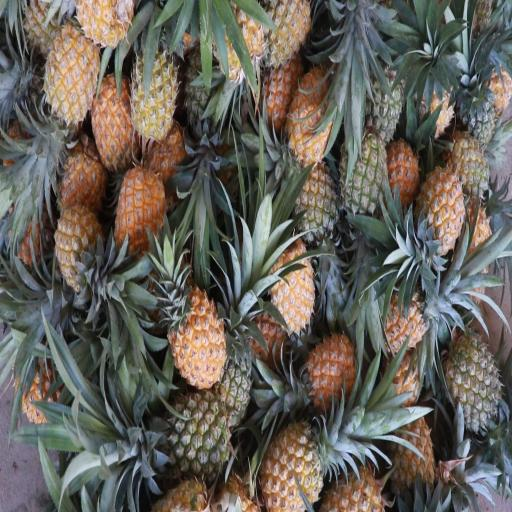------------------------------: (288, 135, 338, 253)
Pineapple - v8 v1: (33, 8, 103, 128), (255, 401, 325, 512), (284, 40, 343, 162), (379, 394, 439, 512), (164, 276, 227, 381), (296, 308, 359, 413), (126, 20, 183, 135), (47, 189, 103, 299), (407, 149, 466, 253), (110, 159, 168, 264), (87, 62, 137, 177), (369, 273, 433, 362), (268, 220, 314, 339), (263, 0, 315, 78)
